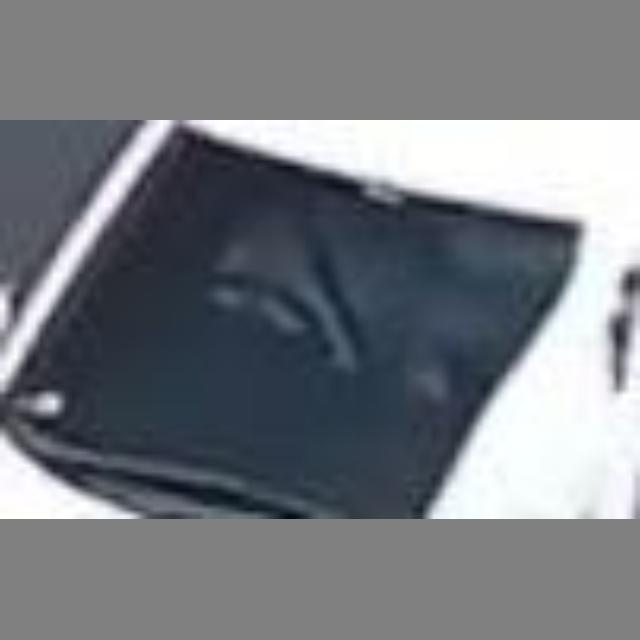pakai: (234, 190, 406, 399)
